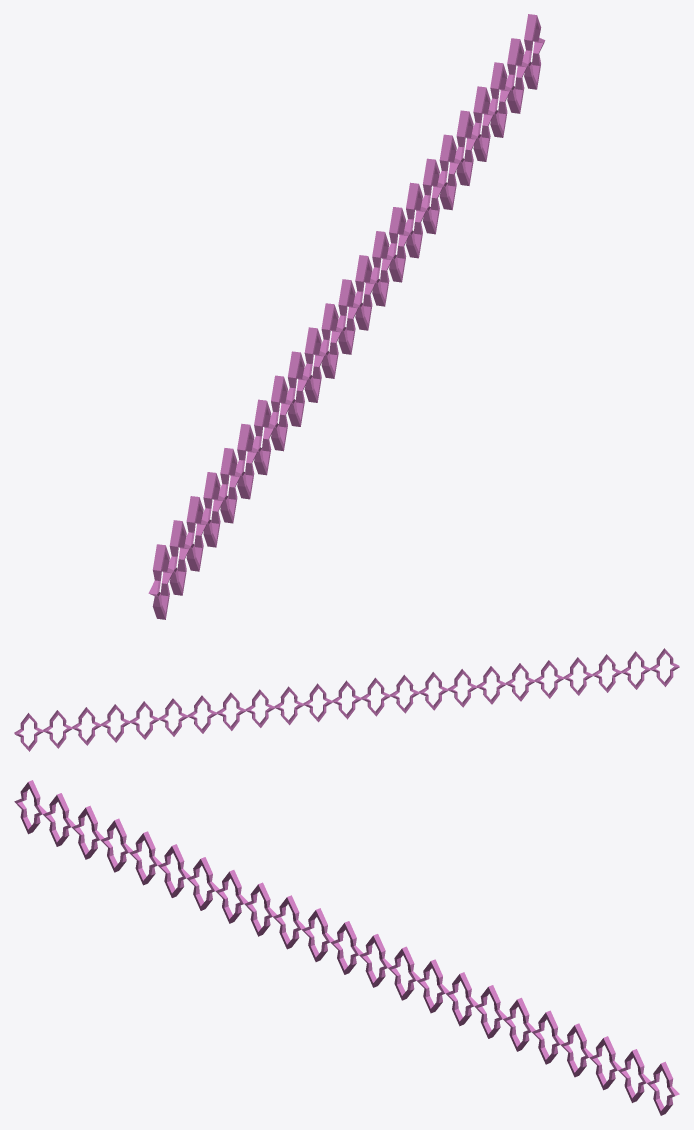
The model's file is fenceangle.fbx.
3 renders of one model, top to bottom at view 1: azimuth 30°, elevation 25°; view 2: azimuth 150°, elevation 25°; view 3: azimuth 270°, elevation 25°, orthographic. The views are drawn at different scales.
Visible parts, largest first — view 1: fenceangle; view 2: fenceangle; view 3: fenceangle.
Boxes of the visible parts, <box> form: fenceangle: <box>148,14,545,619</box>; fenceangle: <box>14,648,679,751</box>; fenceangle: <box>14,780,679,1115</box>.
Size of the model in its own units: 4773 by 394 by 4534.
